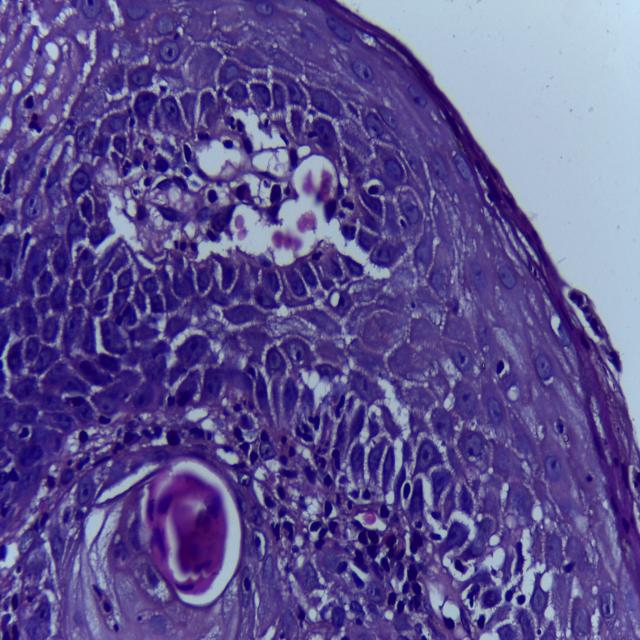Multiple Nucleol: (107, 544, 133, 575), (314, 118, 337, 146), (535, 357, 555, 385), (464, 433, 483, 462), (251, 505, 270, 527), (27, 191, 40, 222)
